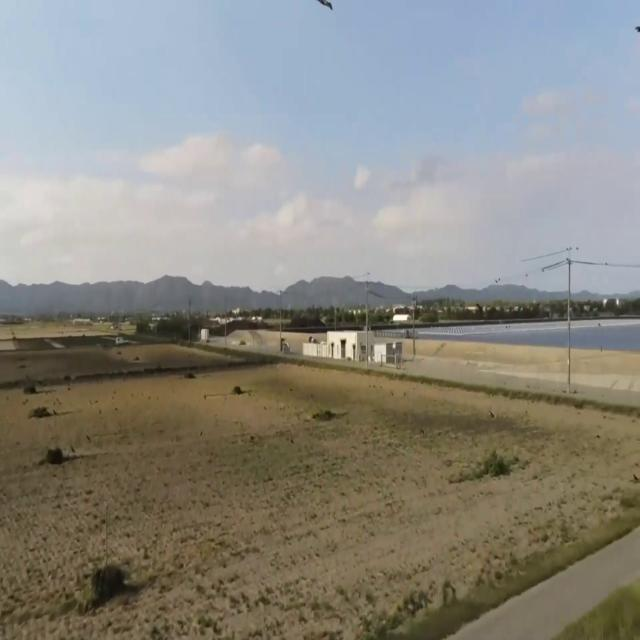bird: (317, 0, 333, 23)
